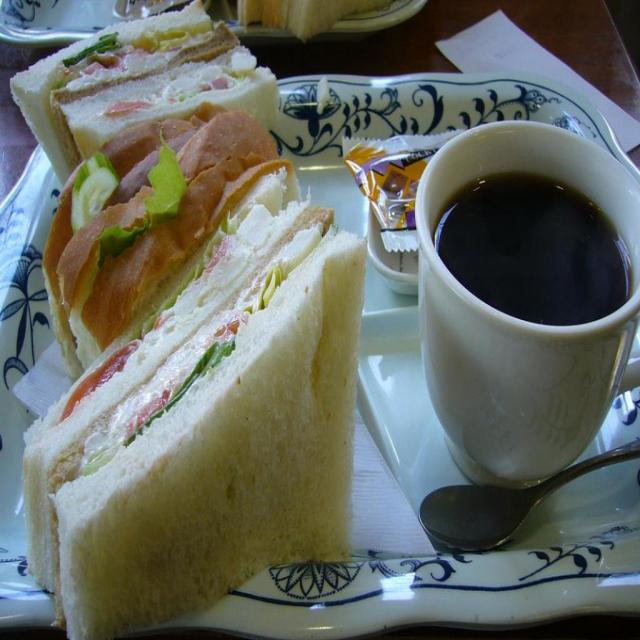Coffee: (430, 167, 632, 323)
Tea: (437, 164, 632, 324)
